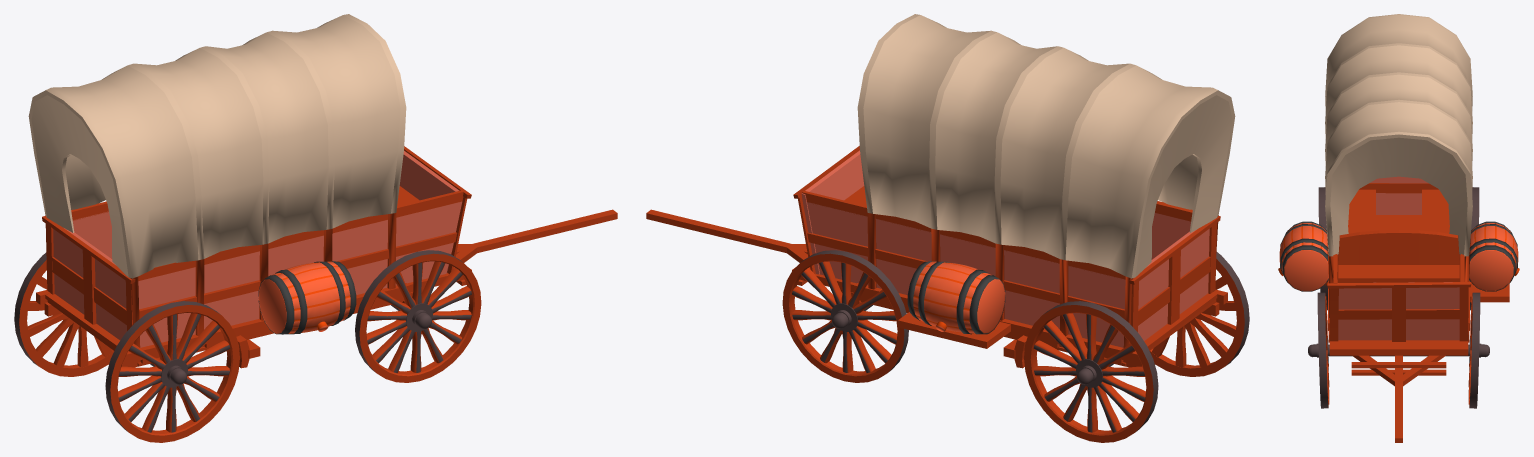
File: wagon2.glb
3 views of the same model, side by side, from view 1: azimuth 30°, elevation 25°; view 2: azimuth 150°, elevation 25°; view 3: azimuth 270°, elevation 25° (orthographic). The views are drawn at different scales.
Parts seen in each view (by area): view 1: Wagon2; view 2: Wagon2; view 3: Wagon2.
Boxes of the visible parts, left/top/right/bottom form: Wagon2: left=14, top=14, right=617, bottom=442; Wagon2: left=646, top=14, right=1249, bottom=442; Wagon2: left=1278, top=14, right=1519, bottom=442.
Size of what is drawn, in the model's own units: 3.61 by 2.04 by 1.66.
Materials: 1 (1 with a texture image).
